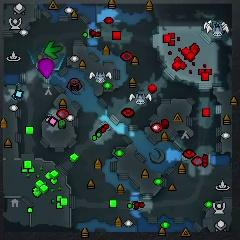p3: (39, 58, 55, 78)
x4: (45, 41, 64, 57)
